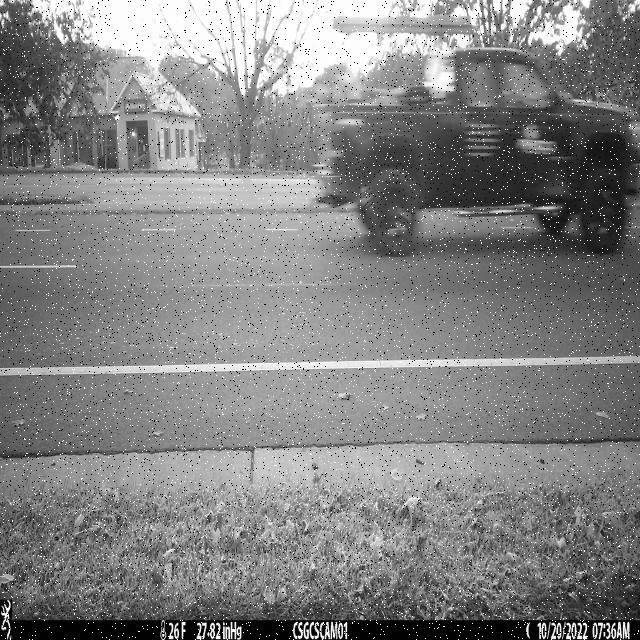Pickup: (314, 47, 640, 258)
